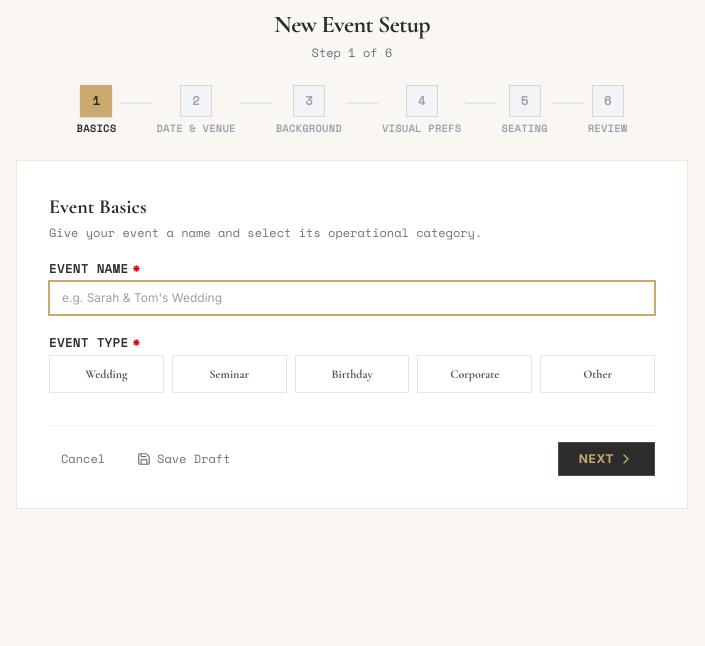
Scenario: ProjectSetupWizard › blocks Step 1 → Step 2 if name is empty
Click the button "Next" at (606, 459), box [558,442,655,476]
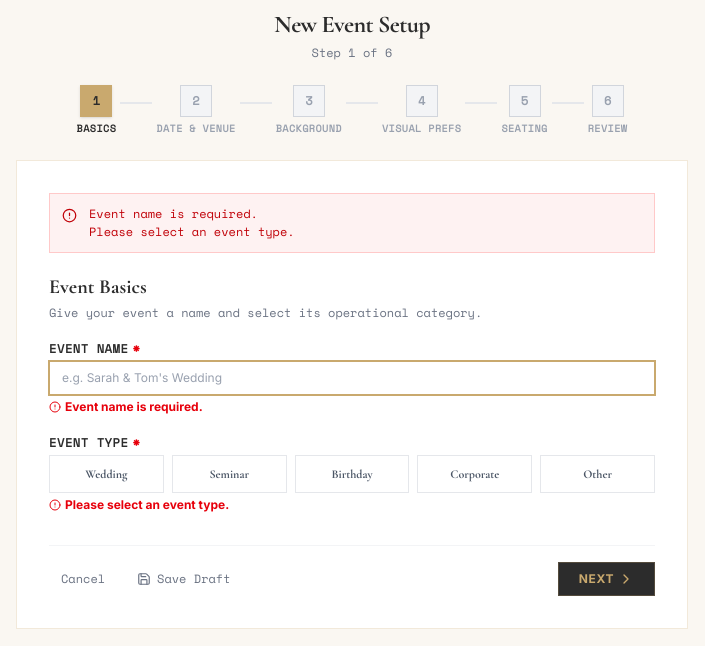
Check: the heading "Event Basics" is shown, box [49,275,147,299]
Check: the message "Event name is required. Please select an event type." is shown, box [49,193,655,253]
Check: the list item "Event name is required." is shown, box [89,205,258,222]
